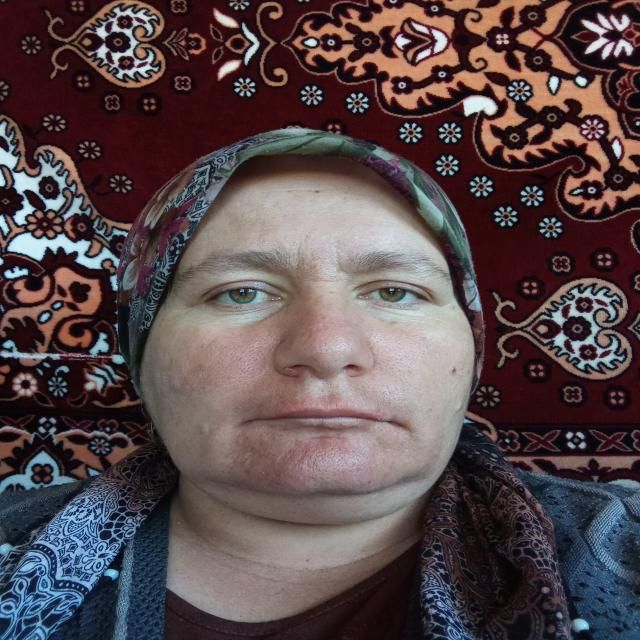Acne: (168, 376, 185, 394), (192, 360, 210, 372), (452, 398, 464, 413), (198, 422, 211, 434), (448, 364, 458, 376)
Englarged-Pores: (207, 332, 279, 388), (278, 446, 372, 481), (372, 332, 416, 399), (292, 240, 354, 280), (303, 340, 352, 363), (227, 440, 257, 465), (415, 340, 441, 363), (190, 370, 209, 394), (346, 238, 381, 250), (254, 236, 288, 248), (319, 379, 335, 393)
Wrinkles: (369, 302, 448, 322), (251, 187, 391, 196), (248, 303, 294, 326), (292, 232, 311, 269), (336, 241, 351, 275), (296, 276, 353, 284), (303, 434, 344, 441)
